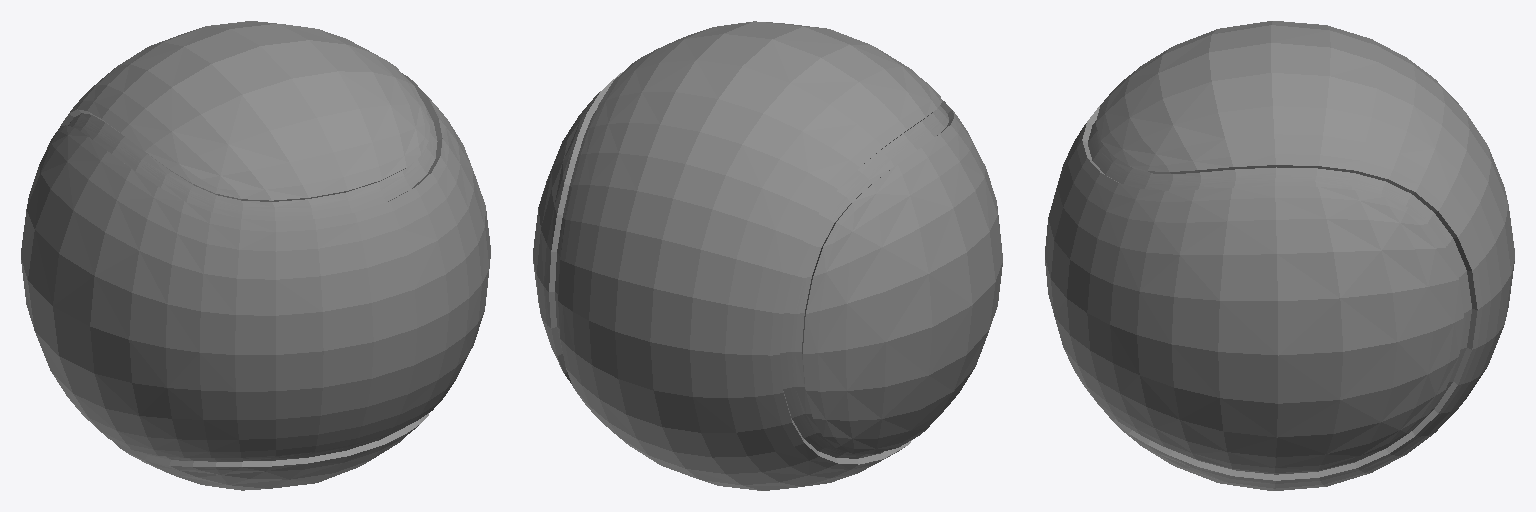
The model's file is TennisBall_Rendering.obj.
The picture shows the model from 3 angles: view 1: azimuth 30°, elevation 25°; view 2: azimuth 150°, elevation 25°; view 3: azimuth 270°, elevation 25°; orthographic projection.
Visible parts, largest first — view 1: Box001; view 2: Box001; view 3: Box001.
Boxes of the visible parts, box(x1,y1,x2,y2) form: Box001: box(21, 21, 490, 490); Box001: box(533, 21, 1002, 490); Box001: box(1045, 21, 1514, 490).
Size of the model in its own units: 73.13 by 73.08 by 73.13.